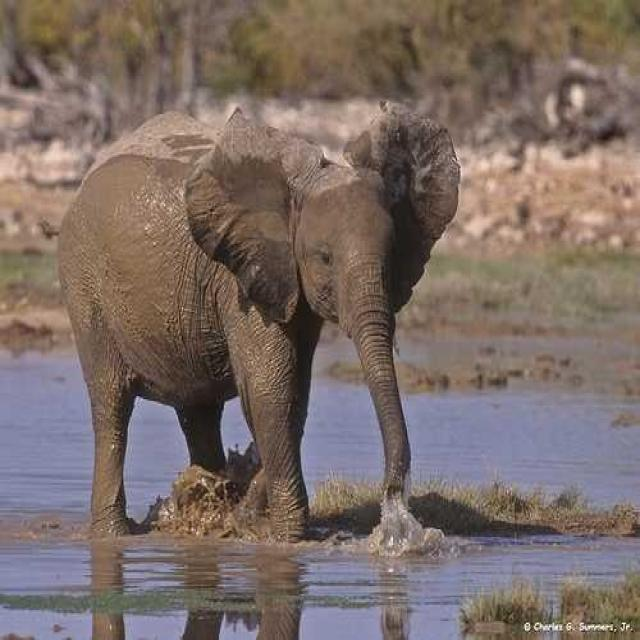Elephant: (55, 99, 461, 544)
